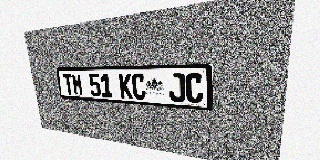1: (99, 73, 113, 98)
5: (88, 74, 101, 97)
C: (185, 73, 203, 104), (131, 73, 146, 100)
J: (169, 73, 185, 102)
K: (119, 73, 133, 99)
M: (71, 74, 84, 96)
T: (62, 74, 74, 95)
